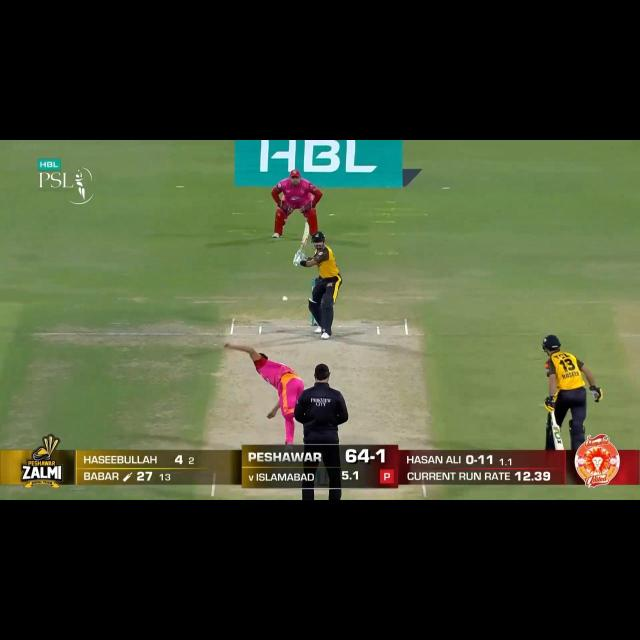bat: (298, 222, 311, 255), (551, 425, 567, 449)
toe: (302, 220, 311, 232)
